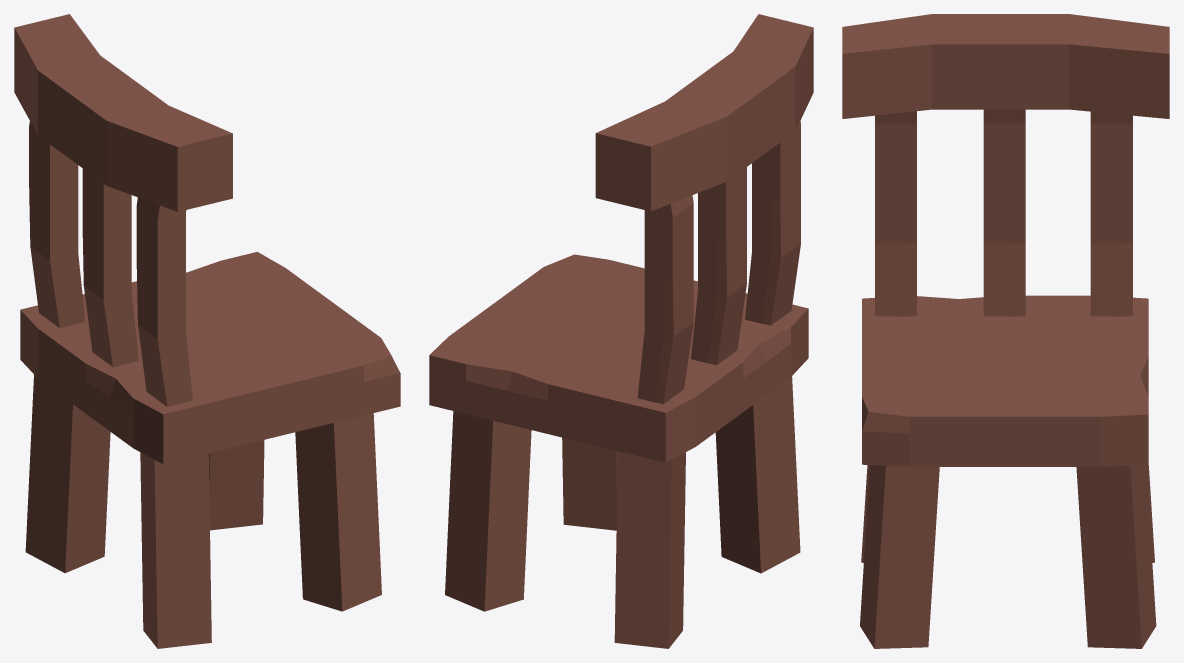
Rendered from Chair.fbx.
3 renders of one model, left to right at view 1: azimuth 30°, elevation 25°; view 2: azimuth 150°, elevation 25°; view 3: azimuth 270°, elevation 25°, orthographic.
Visible parts, largest first — view 1: Cube.002, Cube, Cube.001, Cube.006, Cube.005, Cube.003, Cube.004; view 2: Cube.002, Cube, Cube.001, Cube.004, Cube.003, Cube.005, Cube.006; view 3: Cube.002, Cube.001, Cube, Cube.004, Cube.006.
Boxes of the visible parts, x1,y1,x2,y2 form: Cube.002: [20, 251, 400, 464]; Cube: [29, 121, 192, 406]; Cube.001: [14, 14, 232, 211]; Cube.006: [295, 413, 381, 611]; Cube.005: [140, 452, 211, 648]; Cube.003: [25, 375, 110, 573]; Cube.004: [208, 440, 264, 530]; Cube.002: [429, 254, 808, 462]; Cube: [637, 121, 800, 404]; Cube.001: [595, 14, 813, 211]; Cube.004: [445, 411, 531, 611]; Cube.003: [614, 451, 685, 648]; Cube.005: [715, 376, 800, 573]; Cube.006: [562, 437, 617, 530]; Cube.002: [862, 295, 1148, 466]; Cube.001: [842, 14, 1169, 118]; Cube: [875, 109, 1132, 316]; Cube.004: [1076, 465, 1156, 648]; Cube.006: [860, 465, 939, 648].
Size of the model in its own units: 848 by 1591 by 910.
